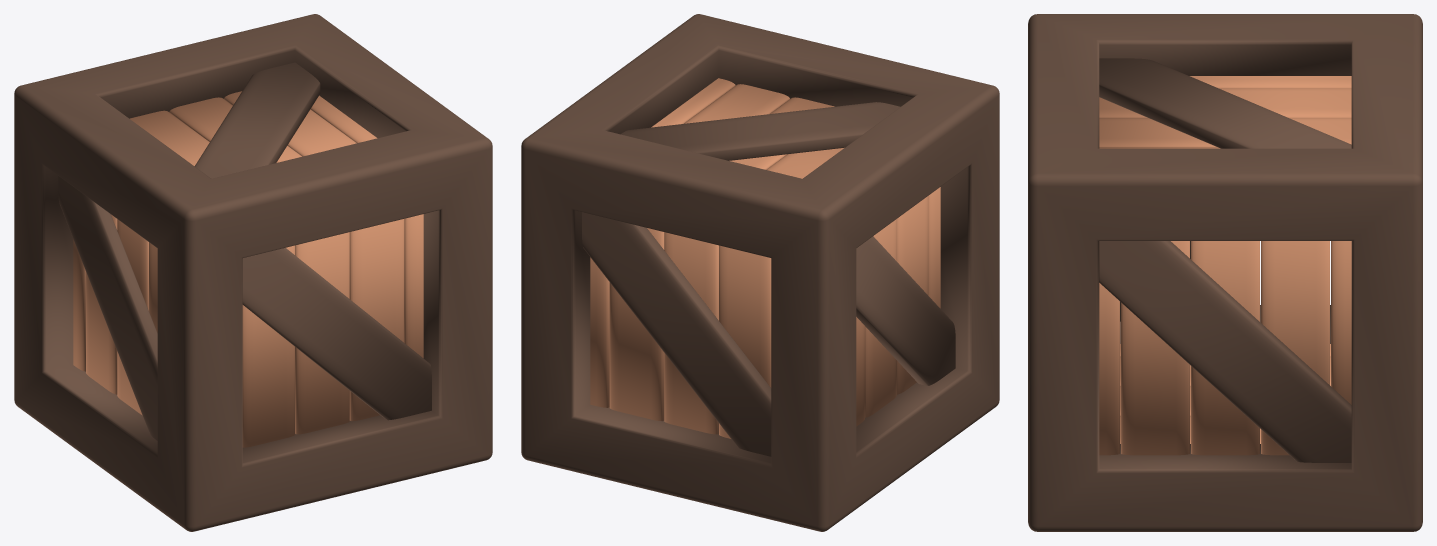
Rendered from Wood_Box.fbx.
3 renders of one model, left to right at view 1: azimuth 30°, elevation 25°; view 2: azimuth 150°, elevation 25°; view 3: azimuth 270°, elevation 25°, orthographic. The views are drawn at different scales.
Visible parts, largest first — view 1: WoodBox; view 2: WoodBox; view 3: WoodBox.
Part boxes in pixels (x1,y1,x2,y2): WoodBox: (14,14,492,531); WoodBox: (521,14,999,531); WoodBox: (1028,14,1422,531).
Bounding box in the file's own units: 200 × 200 × 200.
